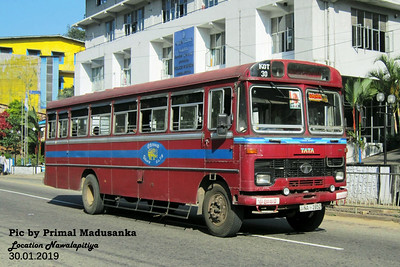bus: (43, 59, 349, 236)
